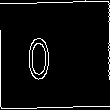O_N: (43, 28, 67, 82)
